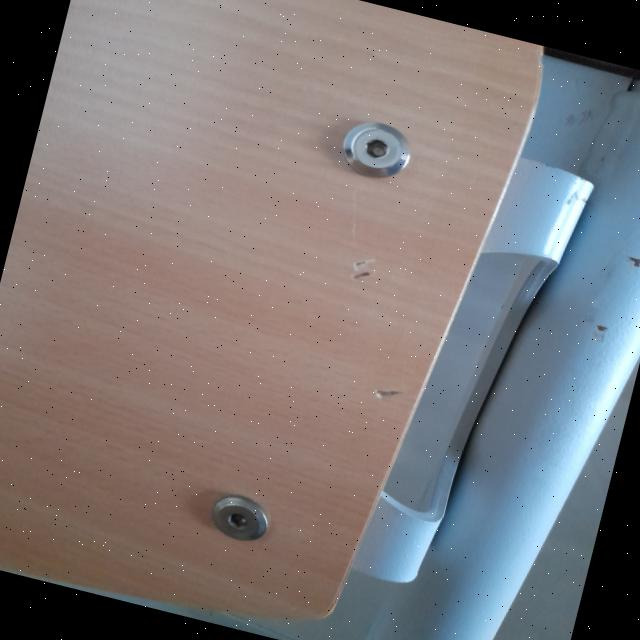Hex Socket Allen: (336, 114, 417, 184), (206, 490, 272, 547)
